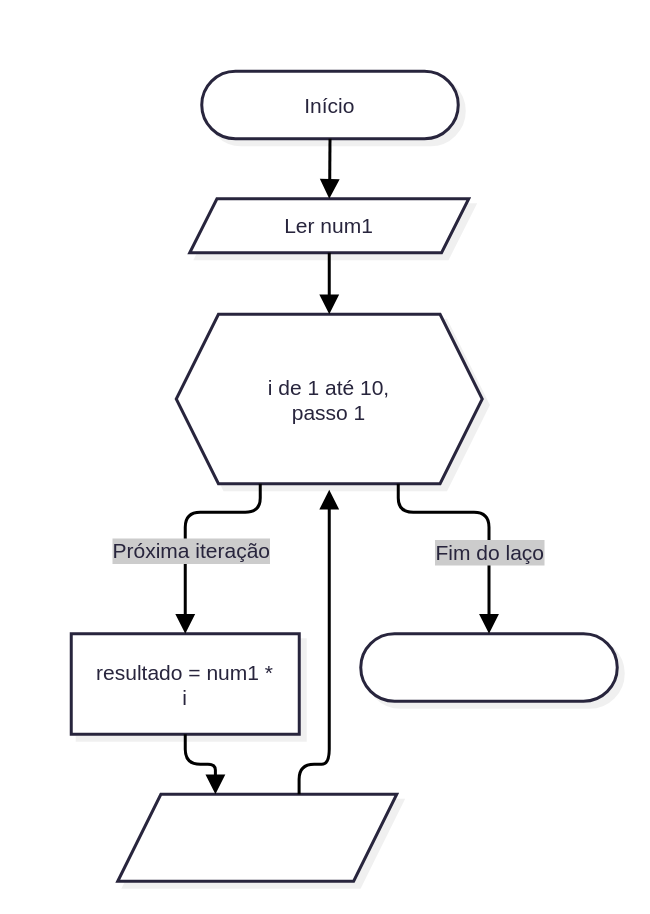
The diagram is 650 pixels wide and 914 high, and some of its shapes have lost their labels. The centre of each missing label's shape, as x and y in pixels:
Exibir: num1 x i = resultado: the point at 260,840
Fim: the point at 491,670
